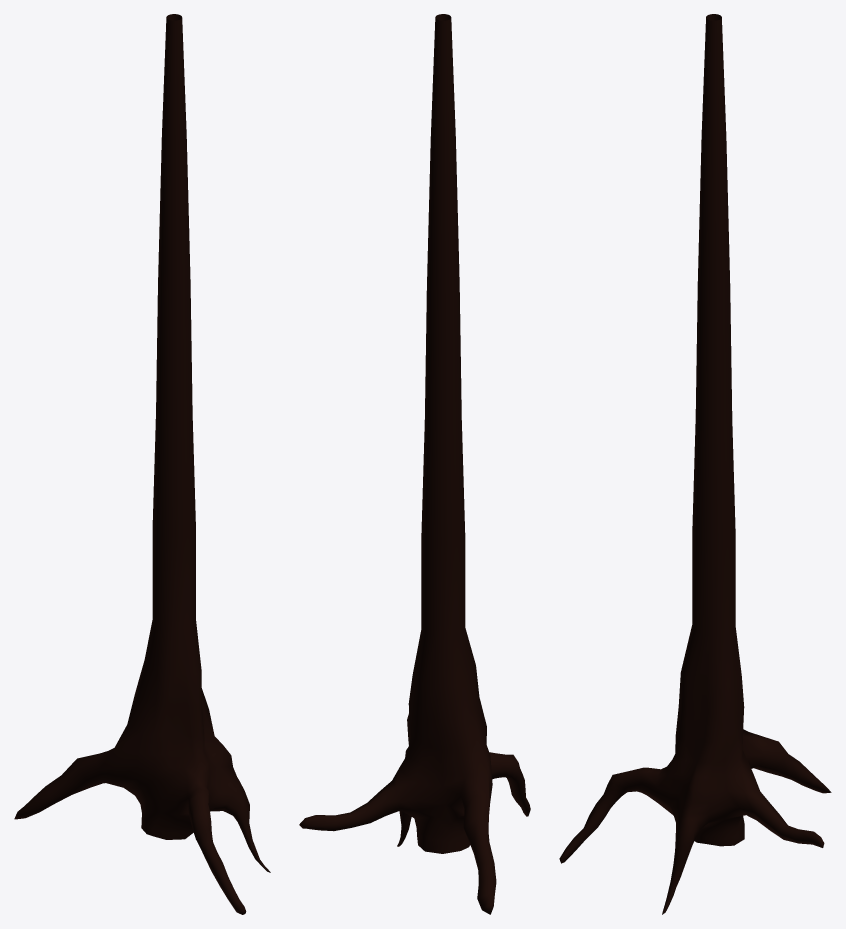
The model's file is TallTree_BottomLeft.FBX.
The picture shows the model from 3 angles, left to right: view 1: azimuth 30°, elevation 25°; view 2: azimuth 150°, elevation 25°; view 3: azimuth 270°, elevation 25°; orthographic projection.
Visible parts, largest first — view 1: Object139; view 2: Object139; view 3: Object139.
Boxes of the visible parts, x1,y1,x2,y2 form: Object139: [14, 14, 270, 914]; Object139: [299, 14, 530, 914]; Object139: [559, 14, 831, 914].
Bounding box in the file's own units: 4466 × 18979 × 5426.
